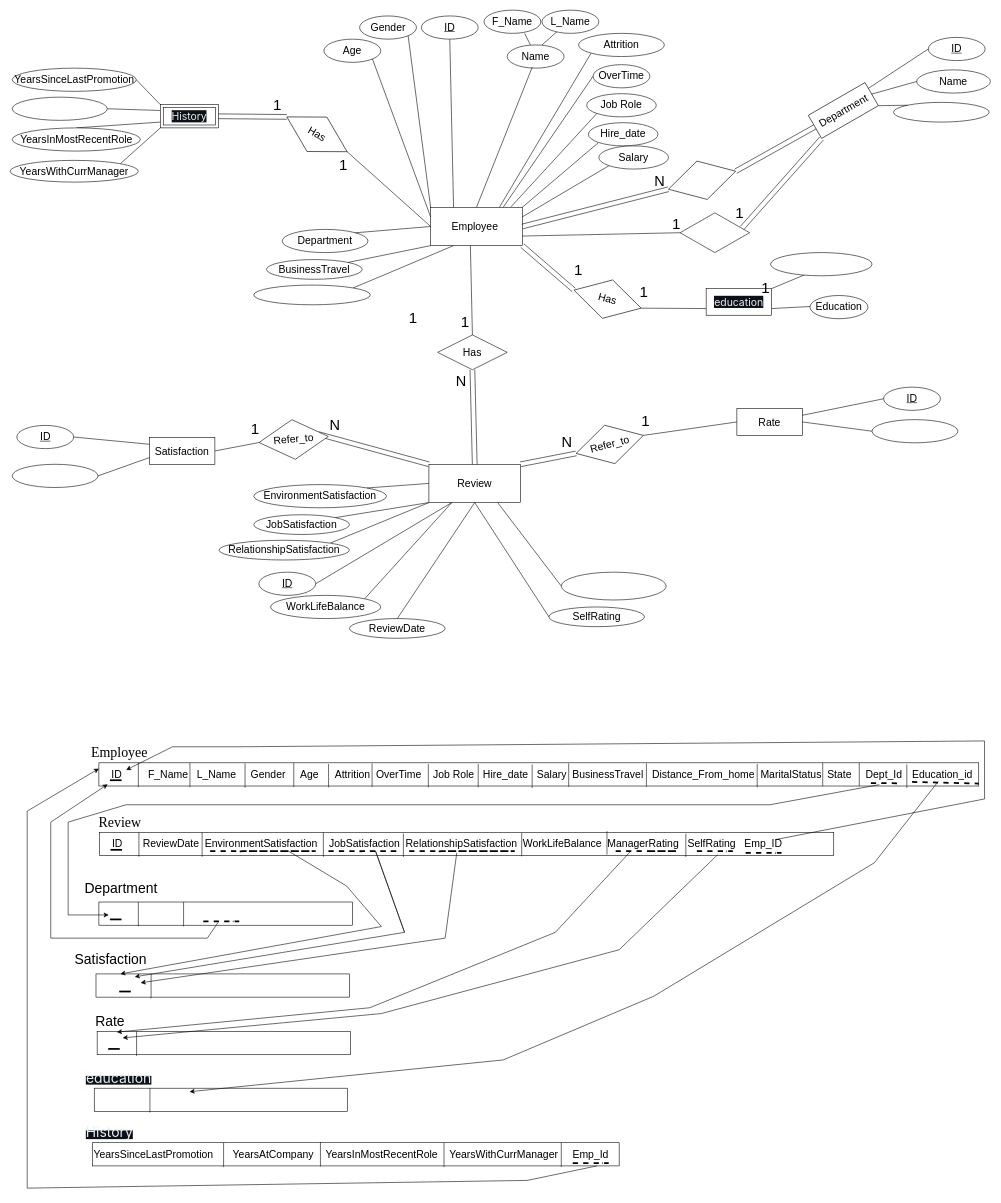
Image size: 1001x1203. Some labels were removed from this diagram. The centre of each missing label's shape, as x and y in pixels:
Distance_From_home: pixel 311 294
Education EducationField: pixel 221 1099
EducationField: pixel 821 264
ID Name Manager_Id: pixel 225 913
ID Rate_Level: pixel 224 1043
ID SatisfactionLevel: pixel 222 985
Manage: pixel 714 232
ManagerRating: pixel 613 586
Manger_Id: pixel 941 112
Rating_Level: pixel 914 431
SatisfactionLevel: pixel 55 475
Works: pixel 702 179
YearsAtCompany: pixel 59 108
